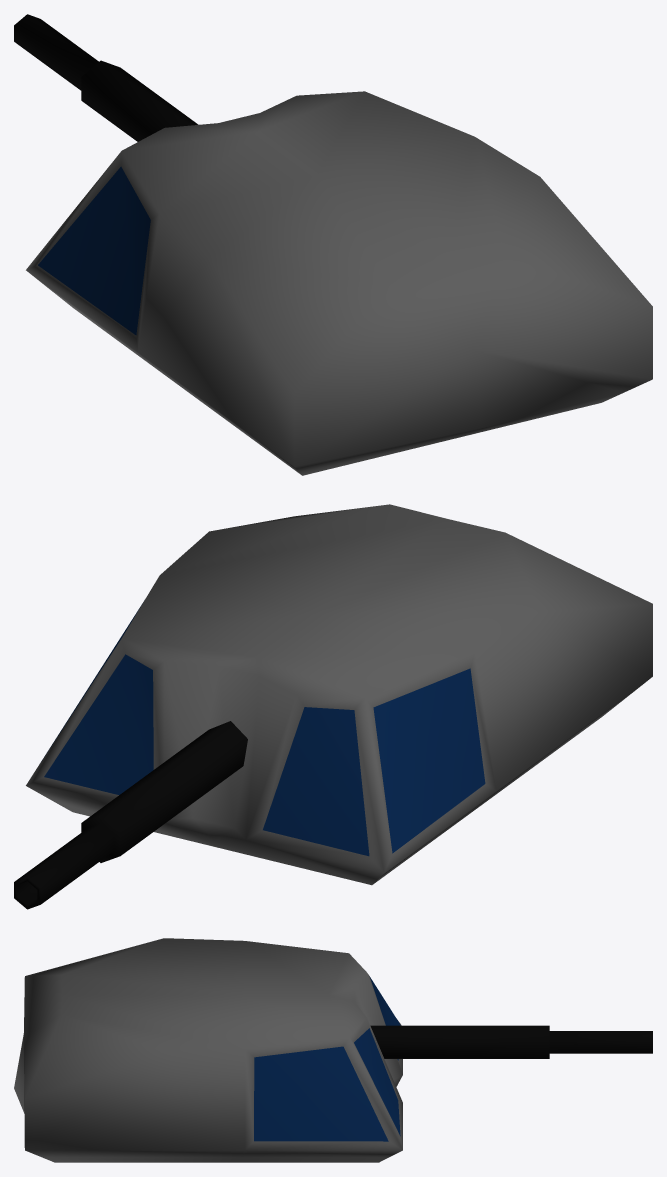
Rendered from NATO-M2A3-IFV-Gun.obj.
3 views of the same model, one above another, from view 1: azimuth 30°, elevation 25°; view 2: azimuth 150°, elevation 25°; view 3: azimuth 270°, elevation 25° (orthographic). The views are drawn at different scales.
Parts seen in each view (by area): view 1: M2A3-IFV-Gun_Cube.001; view 2: M2A3-IFV-Gun_Cube.001; view 3: M2A3-IFV-Gun_Cube.001.
Part boxes in pixels (box(x1,y1,x2,y2)): M2A3-IFV-Gun_Cube.001: box(14, 14, 652, 475); M2A3-IFV-Gun_Cube.001: box(14, 504, 652, 909); M2A3-IFV-Gun_Cube.001: box(14, 938, 652, 1162).
Size of the model in its own units: 3.12 by 1.38 by 6.85.
